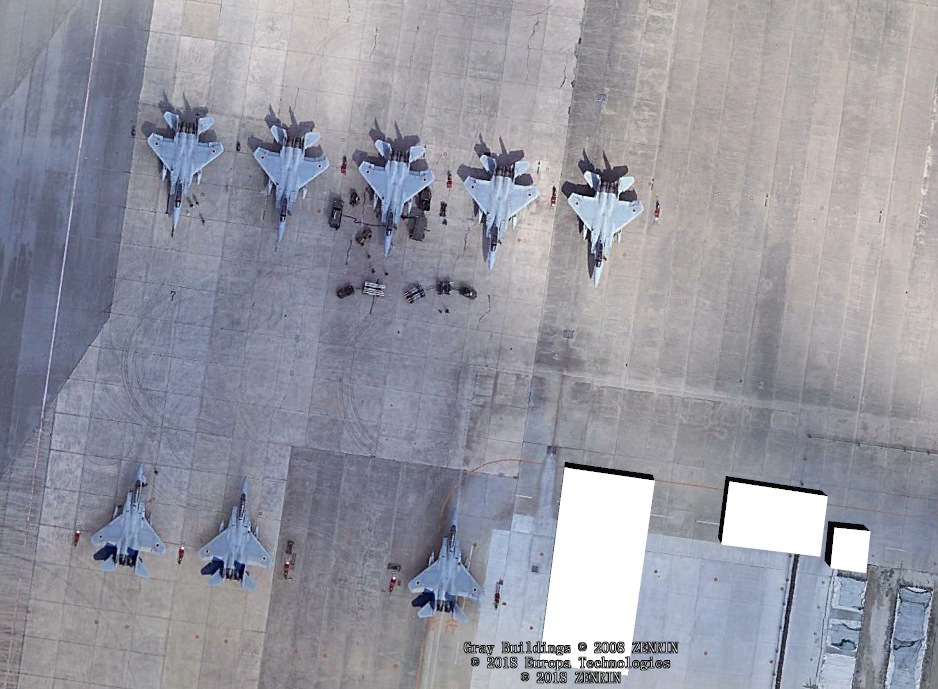A13: (141, 99, 228, 244), (243, 111, 330, 256), (350, 119, 437, 264), (458, 140, 542, 273), (561, 155, 645, 288), (88, 455, 169, 581), (194, 475, 275, 601), (406, 502, 487, 628)
